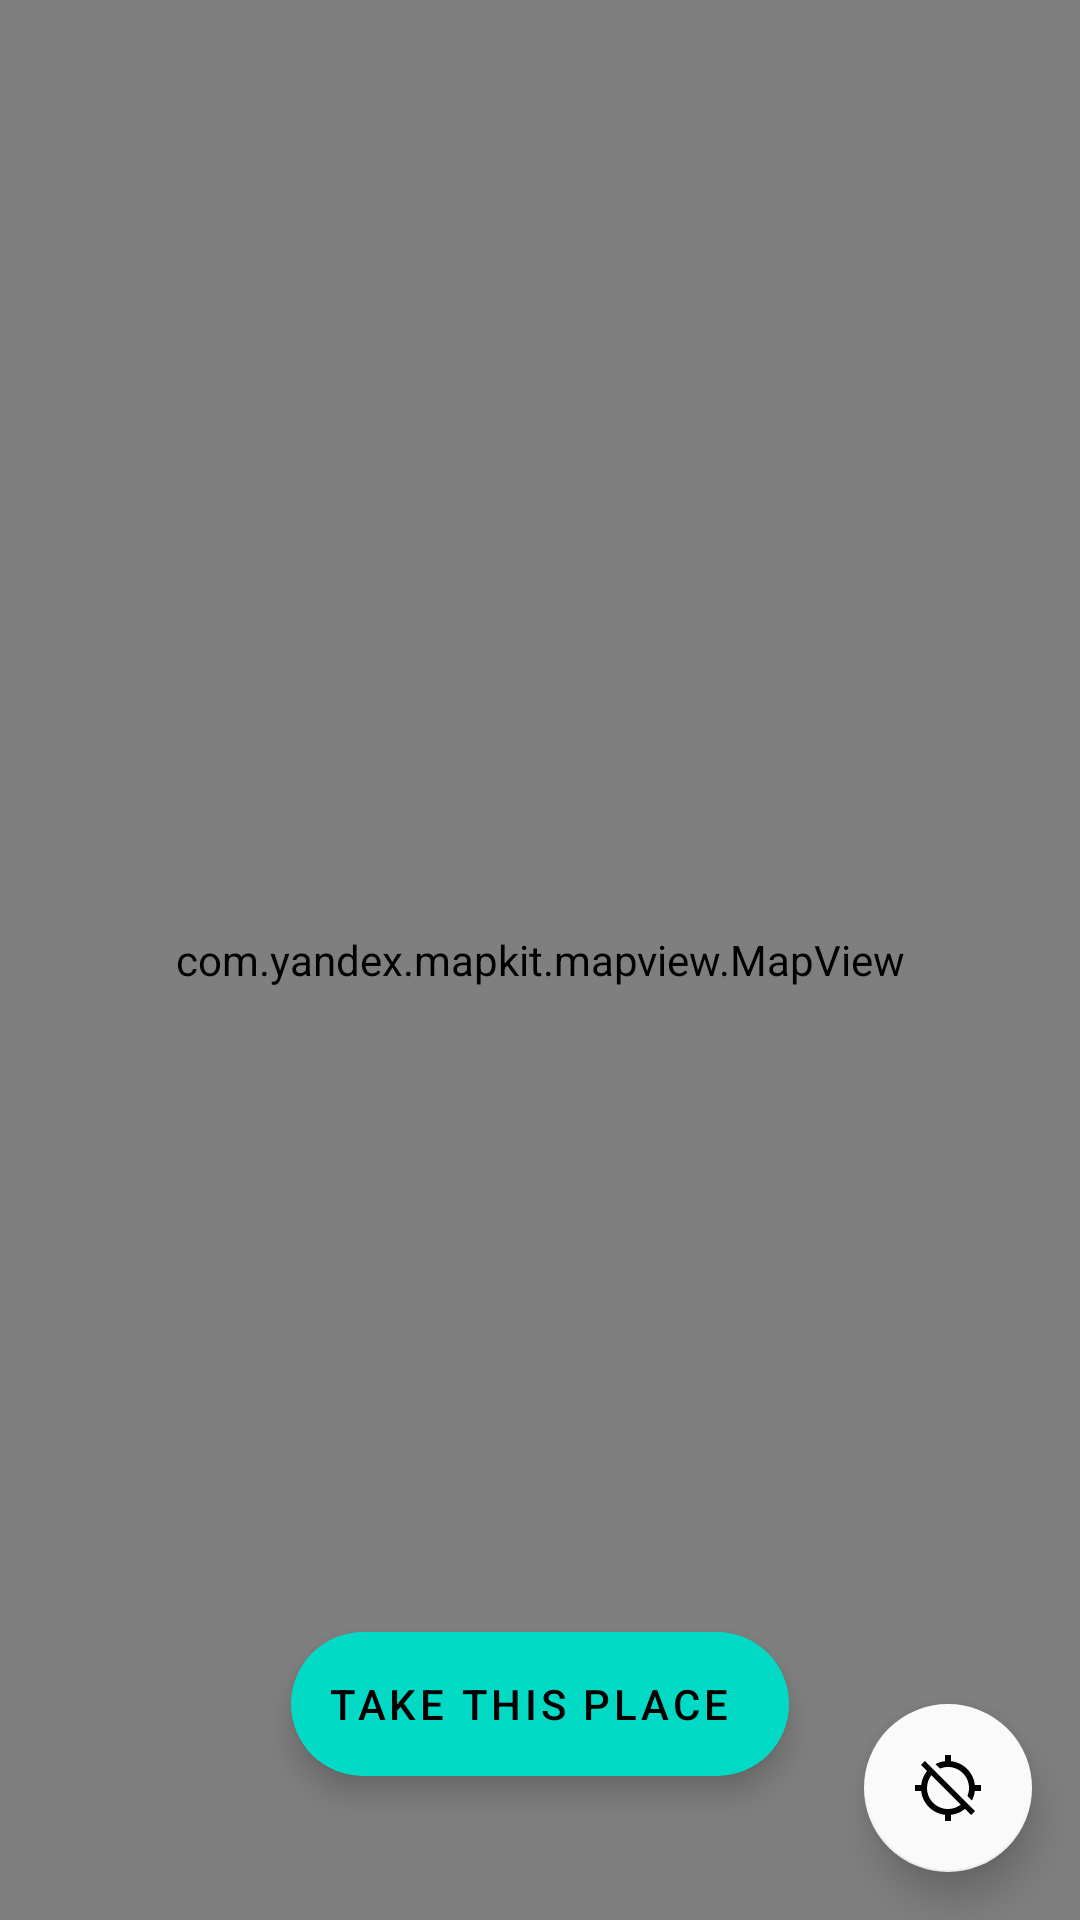

Named icons in this screenshot (1080*1920) and their bounding boxes, (x1, y1, x2, y2):
Route to user location: (864, 1704, 1032, 1872)
